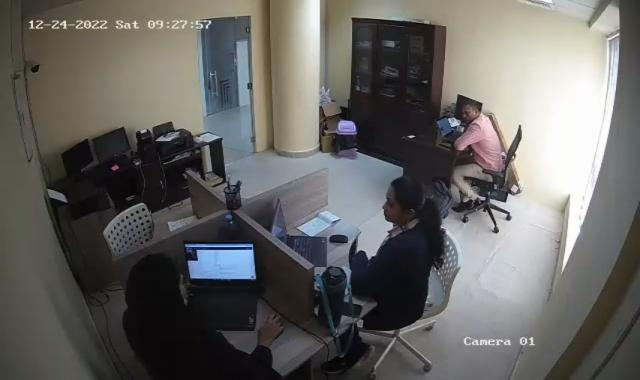no_hairnet: (130, 262, 185, 313), (381, 176, 428, 224), (460, 99, 480, 124)
